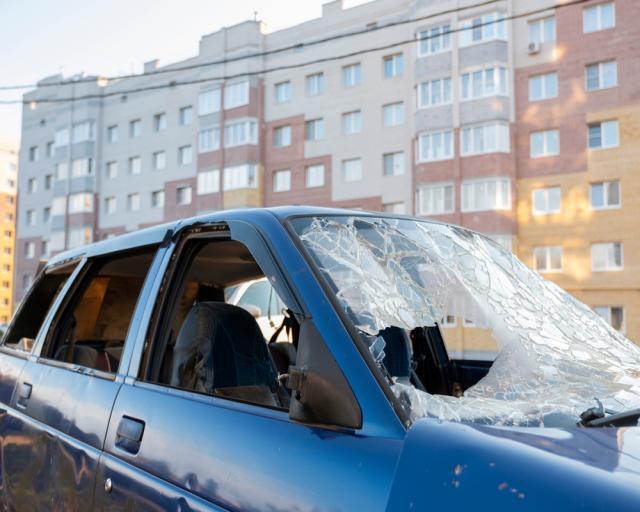dent: (183, 472, 199, 490), (174, 496, 187, 512)
glass shatter: (285, 214, 640, 430)
